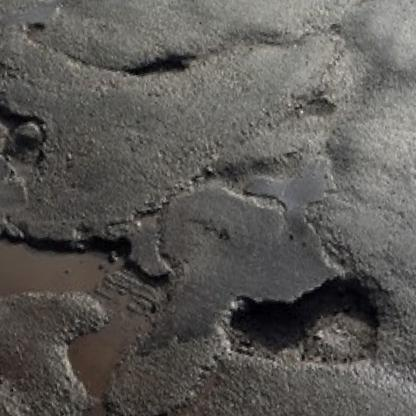pothole: (0, 206, 185, 407), (221, 267, 389, 386), (0, 88, 51, 182), (127, 50, 188, 80)
